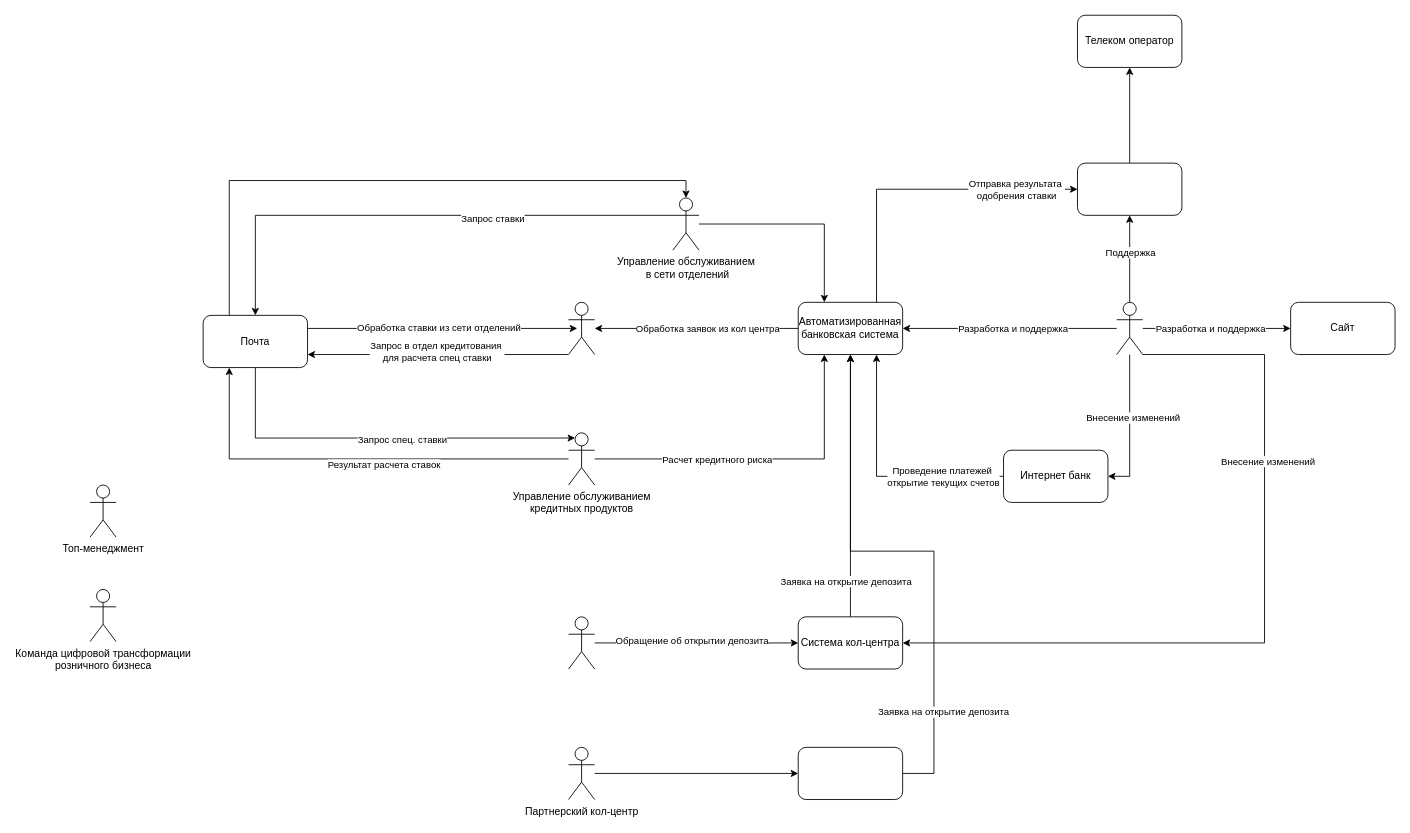
This 1410x833 diagram has some shape labels left out. The shapes that lost their labels are listed below. From the top down, each one's box as (x1, y1, x2, y2) in pixels, then its label:
(1077, 162, 1182, 215): СМС-Шлюз
(568, 301, 595, 355): Управление обслуживанием депозитных продуктов
(1116, 301, 1143, 355): ИТ-отдел
(568, 616, 595, 669): Кол-центр
(797, 746, 903, 800): Система партнерского кол-центра
